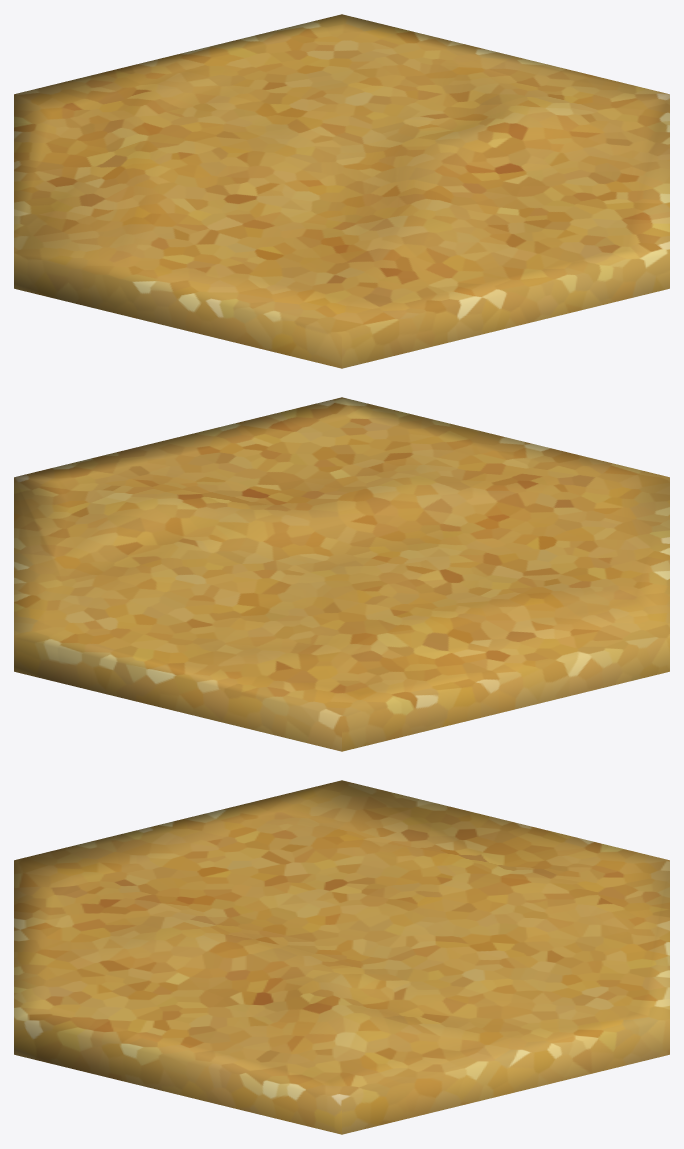
Rendered from HexTop_Desert.fbx.
3 renders of one model, top to bottom at view 1: azimuth 30°, elevation 25°; view 2: azimuth 150°, elevation 25°; view 3: azimuth 270°, elevation 25°, orthographic.
Parts seen in each view (by area): view 1: HexTop_Desert; view 2: HexTop_Desert; view 3: HexTop_Desert.
Boxes of the visible parts, bbox=[...] form: HexTop_Desert: bbox=[14, 14, 669, 368]; HexTop_Desert: bbox=[14, 397, 669, 751]; HexTop_Desert: bbox=[14, 780, 669, 1134].
Bounding box in the file's own units: 100 × 7.15 × 86.6.
